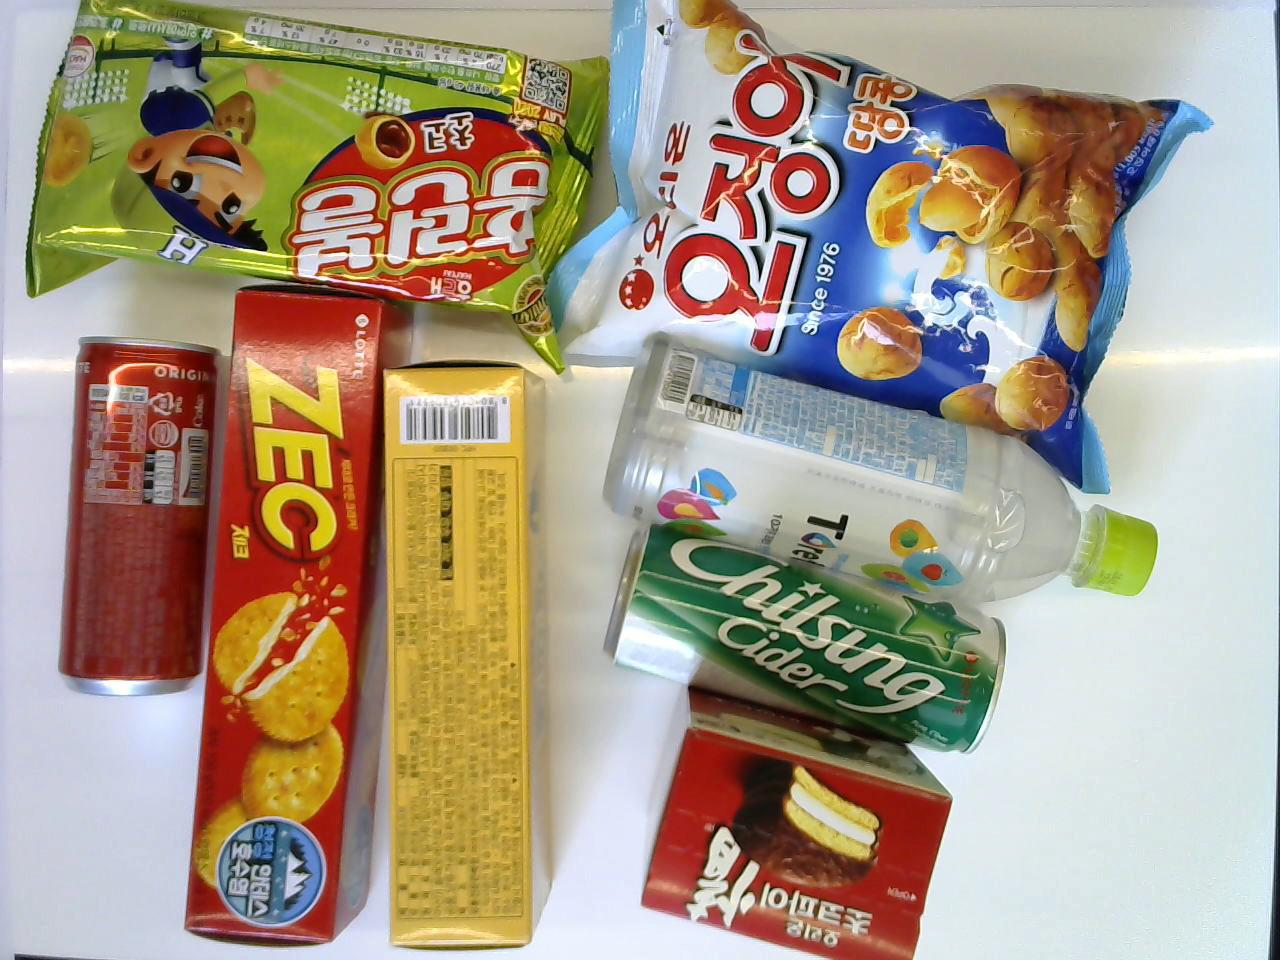buttering: (370, 357, 553, 951)
chocopie: (638, 677, 952, 958)
cidar: (599, 524, 1007, 754)
coke: (55, 333, 221, 700)
homerunball: (21, 0, 610, 373)
squid_peanut: (529, 0, 1212, 493)
toreta: (601, 334, 1159, 608)
zec: (180, 282, 414, 952)
